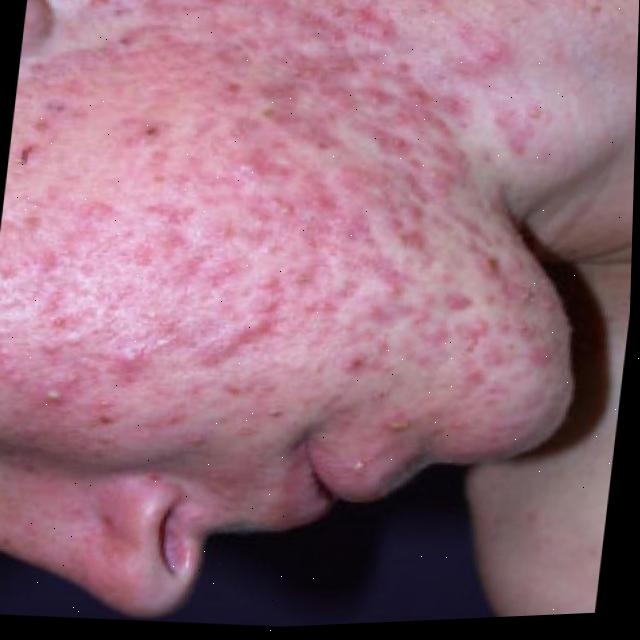Acne: (73, 0, 536, 533)
